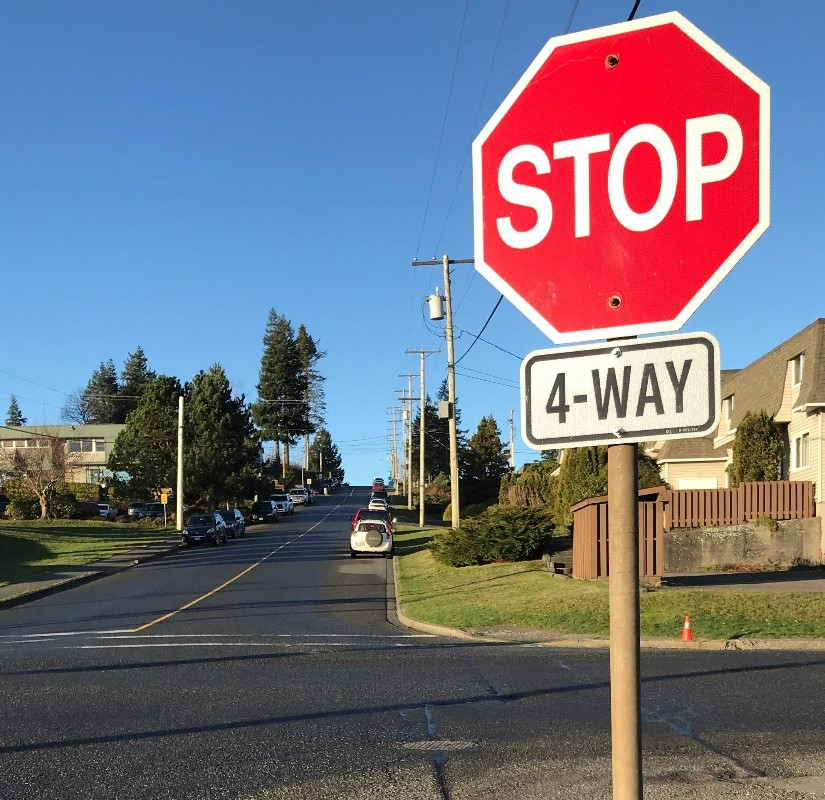stop: (471, 6, 773, 352)
